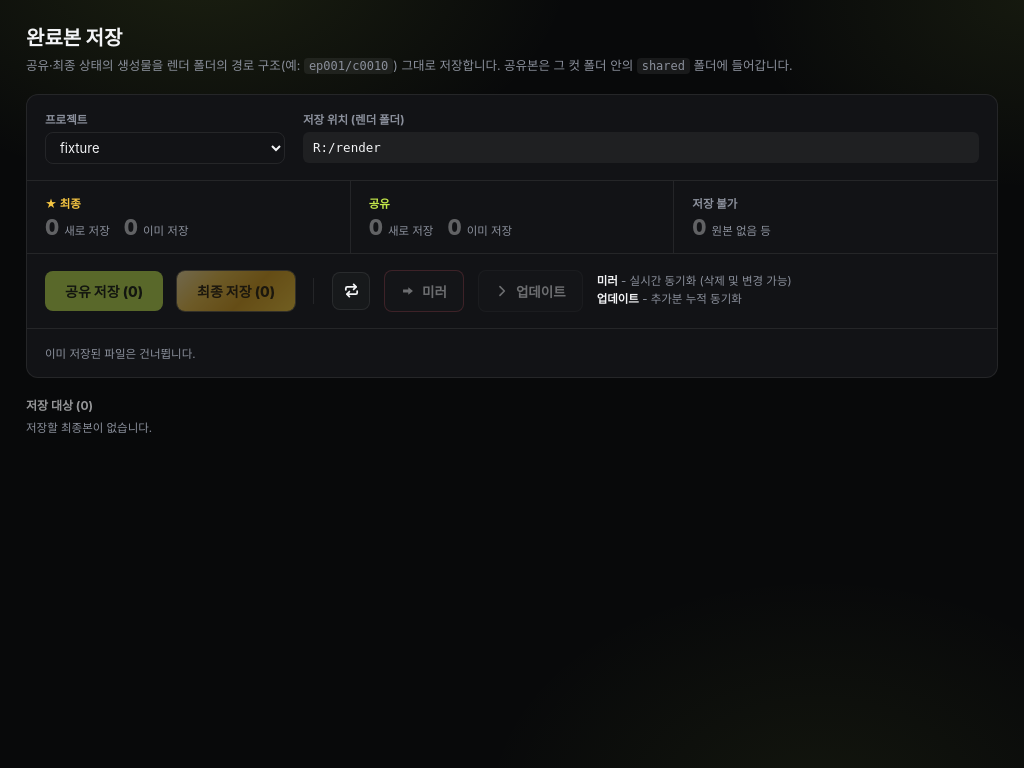
Test: 미러 창에서 아니오를 누르면 아무것도 보내지 않는다
Click the button with class "export-icon-btn".
click(351, 291)  # box [332,272,370,310]
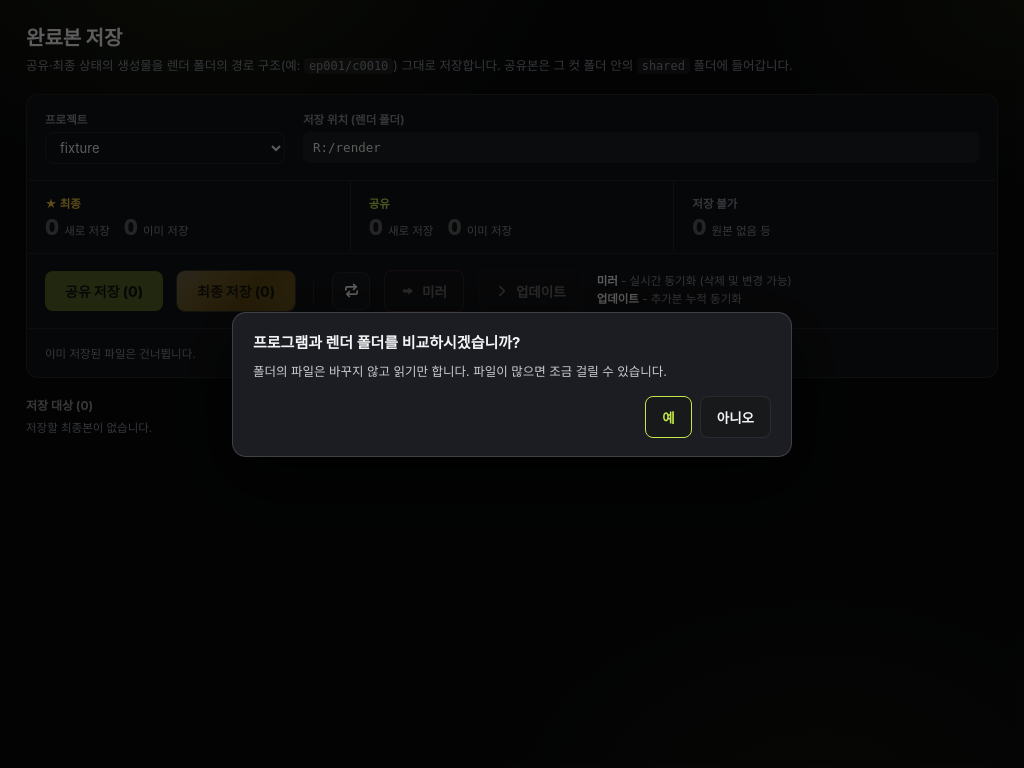
Click the button "예".
click(668, 416)  # box [645,396,692,438]
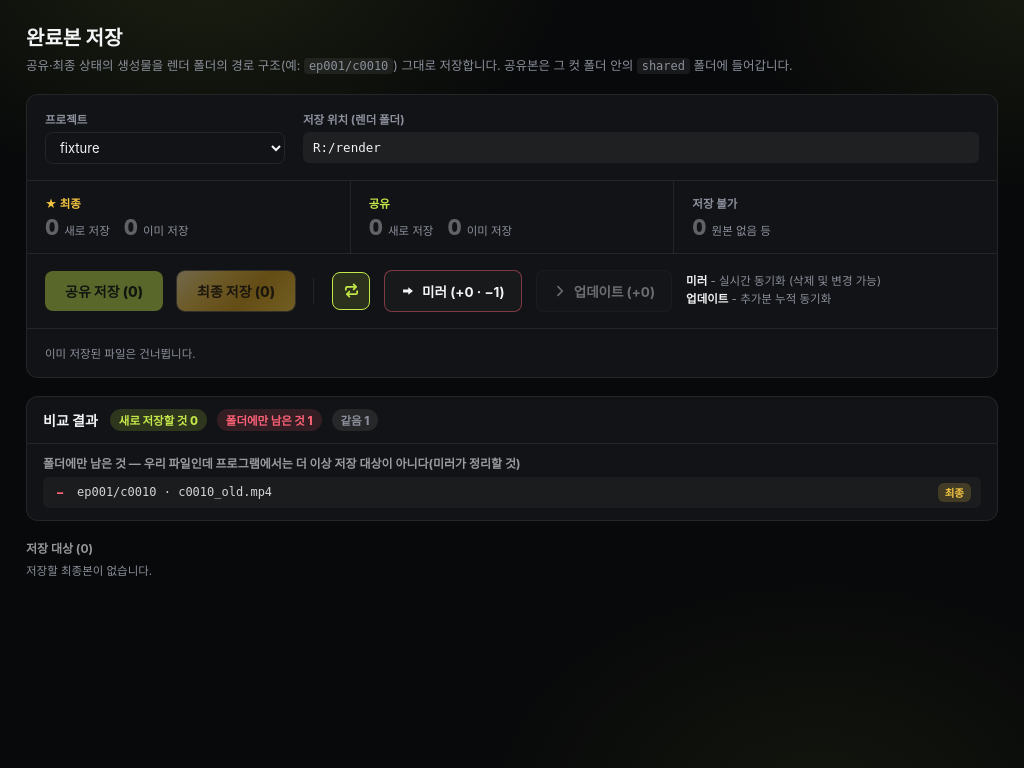
Click the button "미러 (+0 · −1)".
click(453, 291)  # box [384,270,522,312]
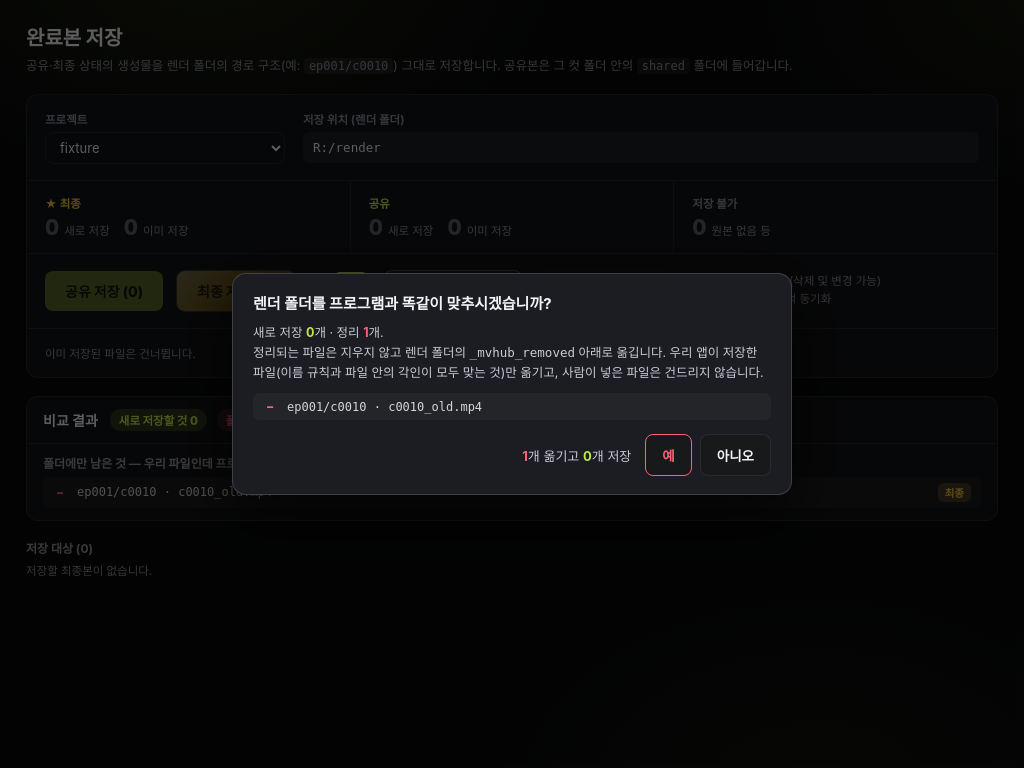
Click the button "아니오".
click(735, 455)  # box [700,434,771,476]
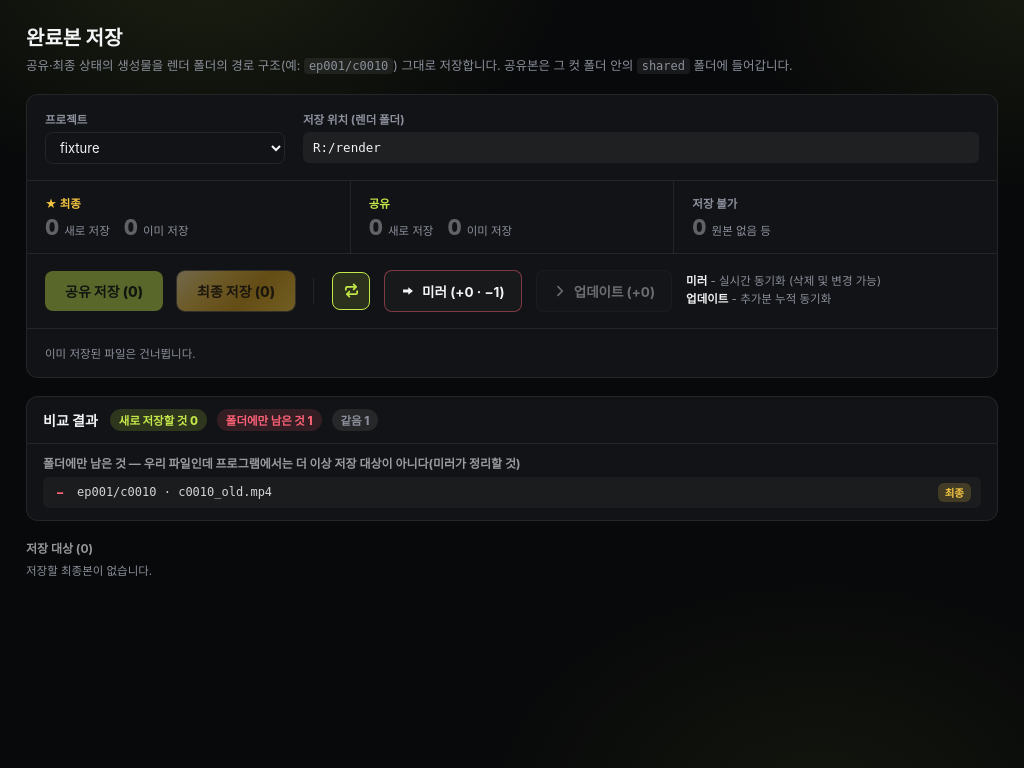
Check: the dialog with class "export-modal" is gone
